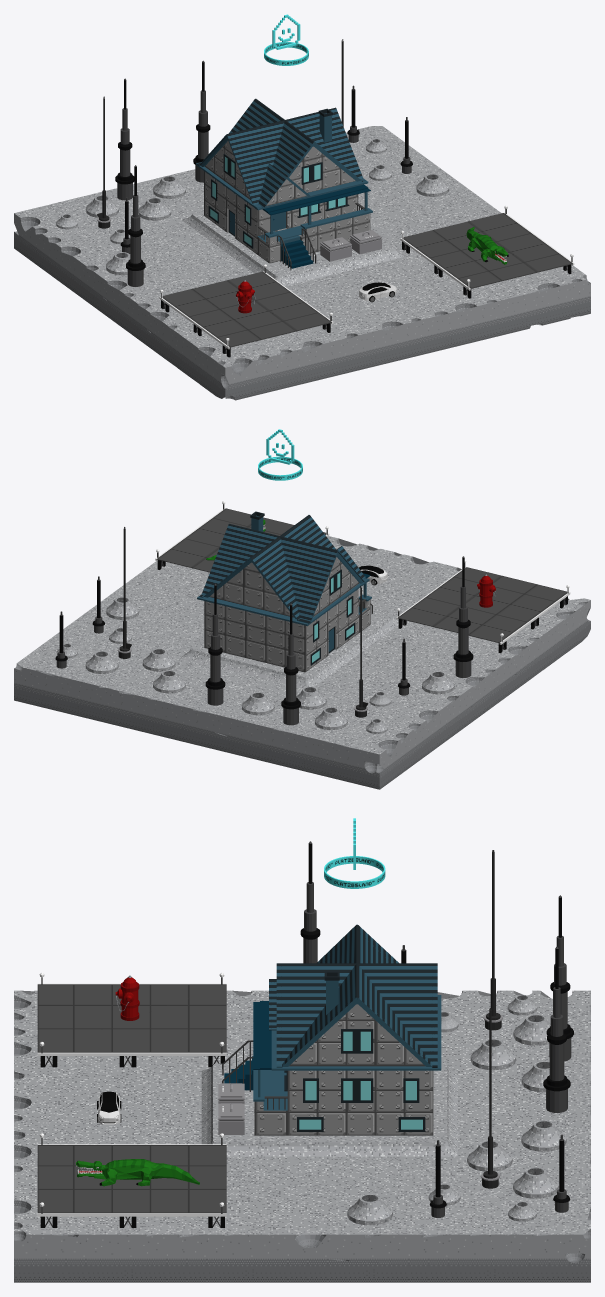
3 renders of one model, top to bottom at view 1: azimuth 30°, elevation 25°; view 2: azimuth 150°, elevation 25°; view 3: azimuth 270°, elevation 25°, orthographic. The views are drawn at different scales.
Visible parts, largest first — view 1: Cube.027, Cube.078, Cube.025, Cube.026, Cube.028, Cylinder.021, Cylinder.020, Cylinder.017, TYPE_PREMIUM, ANIMAL_COCODRILO, Cube.029, Cube.030 (+4 smaller); view 2: Cube.027, Cube.078, Cube.025, Cube.028, Cube.026, Cylinder.017, Cylinder.021, Cylinder.020, TYPE_PREMIUM, Cylinder.030, Cylinder.029, Cylinder.025 (+6 smaller); view 3: Cube.027, Cube.078, Cube.025, Cube.026, Cube.028, Cylinder.017, ANIMAL_COCODRILO, Cylinder.020, Cylinder.021, TYPE_PREMIUM, Cylinder.033, Cylinder.031 (+12 smaller).
Boxes of the visible parts, x1=… form: Cube.027: x1=14, y1=126, x2=590, y2=400; Cube.078: x1=196, y1=98, x2=372, y2=269; Cube.025: x1=159, y1=264, x2=333, y2=357; Cube.026: x1=400, y1=205, x2=574, y2=298; Cube.028: x1=182, y1=211, x2=403, y2=286; Cylinder.021: x1=126, y1=165, x2=145, y2=286; Cylinder.020: x1=115, y1=78, x2=134, y2=200; Cylinder.017: x1=193, y1=60, x2=210, y2=182; TYPE_PREMIUM: x1=264, y1=14, x2=308, y2=65; ANIMAL_COCODRILO: x1=466, y1=227, x2=508, y2=264; Cube.029: x1=320, y1=237, x2=351, y2=261; Cube.030: x1=350, y1=230, x2=381, y2=254; Cube.027: x1=14, y1=536, x2=590, y2=789; Cube.078: x1=197, y1=511, x2=372, y2=672; Cube.025: x1=396, y1=560, x2=570, y2=653; Cube.028: x1=181, y1=610, x2=398, y2=688; Cube.026: x1=155, y1=501, x2=329, y2=572; Cylinder.017: x1=205, y1=583, x2=225, y2=705; Cylinder.021: x1=453, y1=556, x2=473, y2=677; Cylinder.020: x1=281, y1=603, x2=300, y2=725; TYPE_PREMIUM: x1=258, y1=429, x2=302, y2=480; Cylinder.030: x1=142, y1=648, x2=175, y2=671; Cylinder.029: x1=153, y1=670, x2=185, y2=693; Cylinder.025: x1=422, y1=671, x2=454, y2=694; Cube.027: x1=14, y1=990, x2=590, y2=1282; Cube.078: x1=222, y1=924, x2=441, y2=1135; Cube.025: x1=37, y1=973, x2=226, y2=1067; Cube.026: x1=37, y1=1133, x2=226, y2=1227; Cube.028: x1=201, y1=1063, x2=457, y2=1156; Cylinder.017: x1=543, y1=946, x2=570, y2=1112; ANIMAL_COCODRILO: x1=76, y1=1159, x2=199, y2=1186; Cylinder.020: x1=546, y1=895, x2=573, y2=1061; Cylinder.021: x1=300, y1=841, x2=320, y2=963; TYPE_PREMIUM: x1=324, y1=818, x2=385, y2=888; Cylinder.033: x1=347, y1=1194, x2=392, y2=1225; Cylinder.031: x1=513, y1=1167, x2=558, y2=1198.
Size of the model in its own units: 4000 by 2703 by 4000.
Materials: 35 (7 with a texture image).
